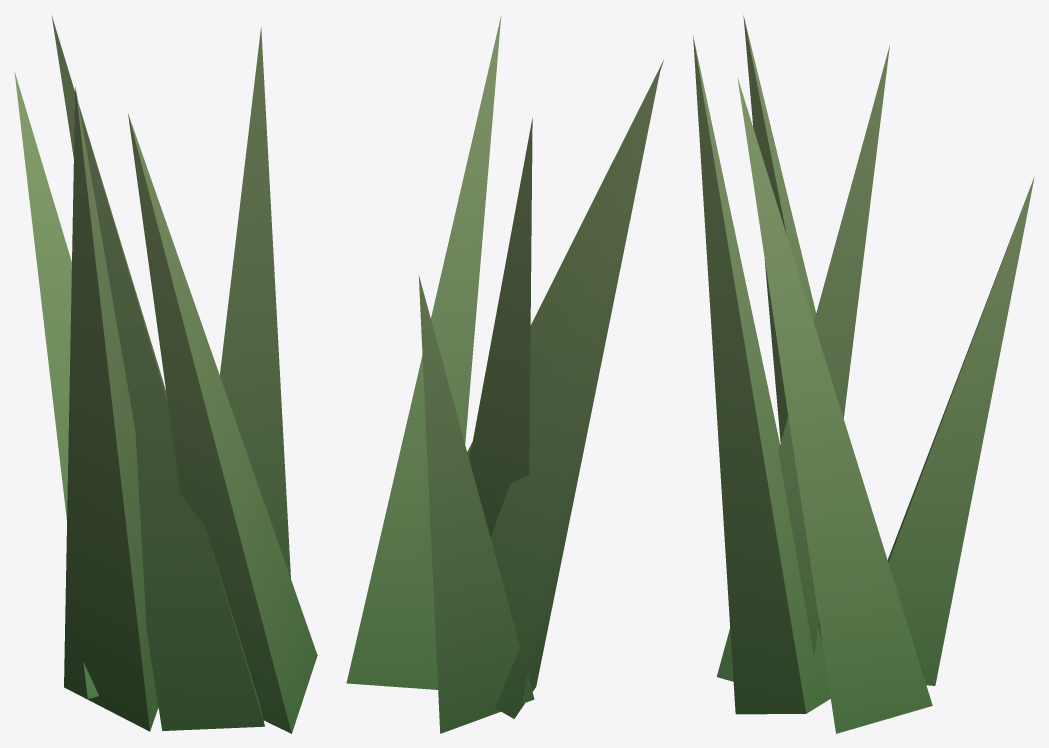
File: GrassTuft.fbx
The picture shows the model from 3 angles, left to right: view 1: azimuth 30°, elevation 25°; view 2: azimuth 150°, elevation 25°; view 3: azimuth 270°, elevation 25°; orthographic projection. The views are drawn at different scales.
Parts seen in each view (by area): view 1: GrassTuft; view 2: GrassTuft; view 3: GrassTuft.
Boxes of the visible parts, bbox=[...] form: GrassTuft: bbox=[14, 15, 317, 733]; GrassTuft: bbox=[346, 15, 663, 733]; GrassTuft: bbox=[693, 16, 1034, 733].
Bounding box in the file's own units: 0.0523 × 0.1291 × 0.0636.
